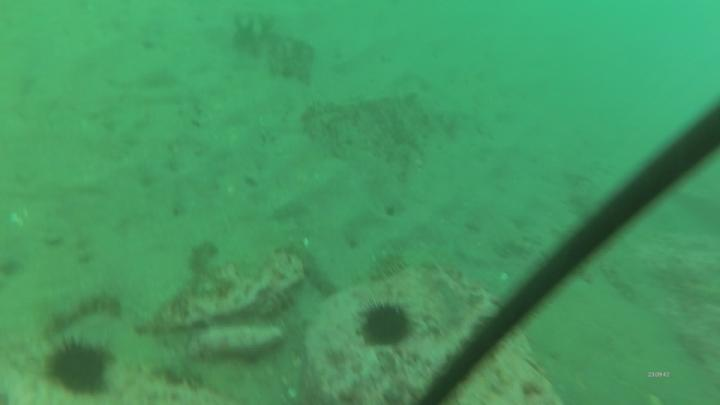echinus: (43, 331, 119, 399), (353, 298, 424, 349)
holothurian: (52, 291, 119, 324)
